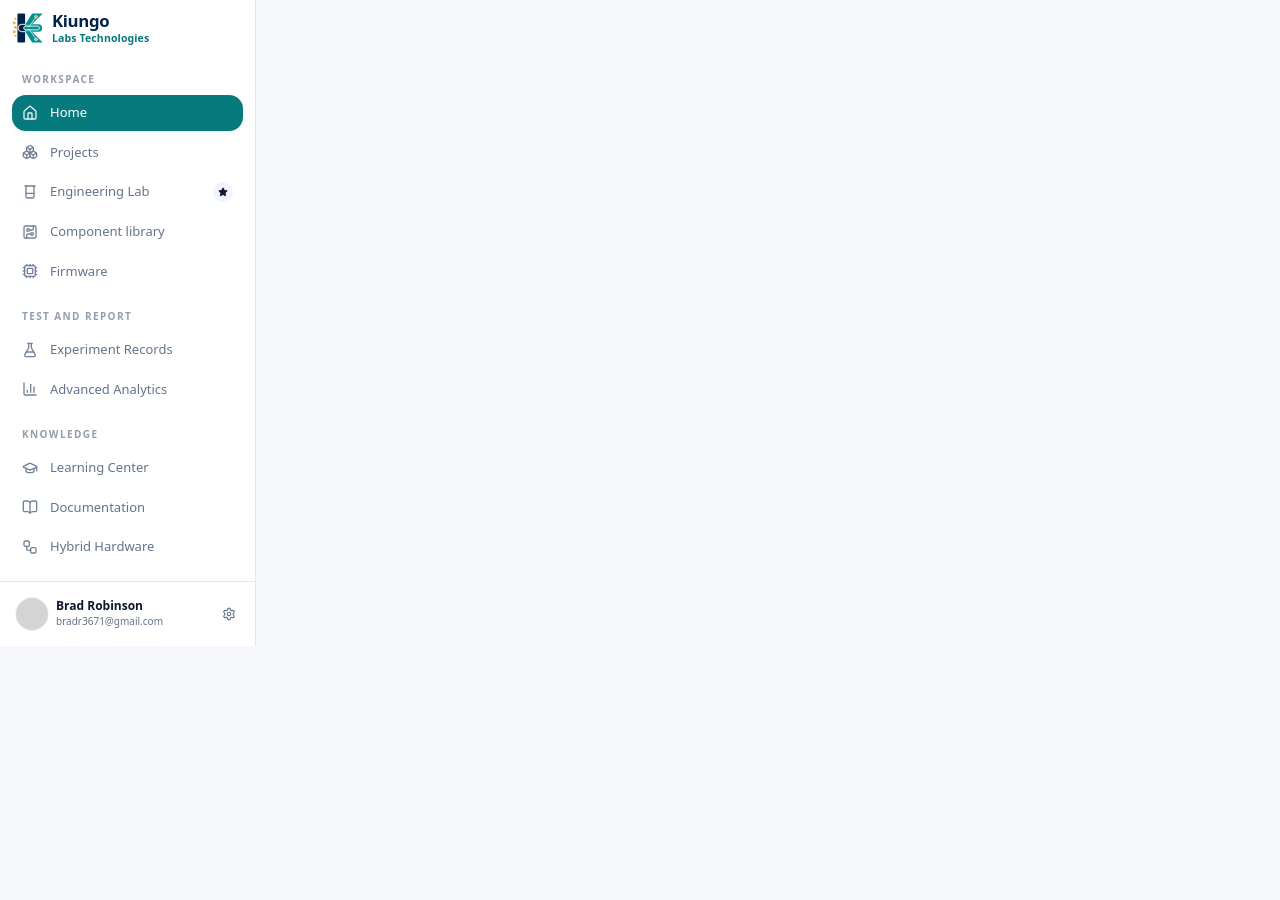
it: Signed in › opens the profile from the sidebar row
The image size is (1280, 900).
Step 1. Click the button with test id "sidebar-account" → (112,614), box top-left (12, 594), bottom-right (211, 634)
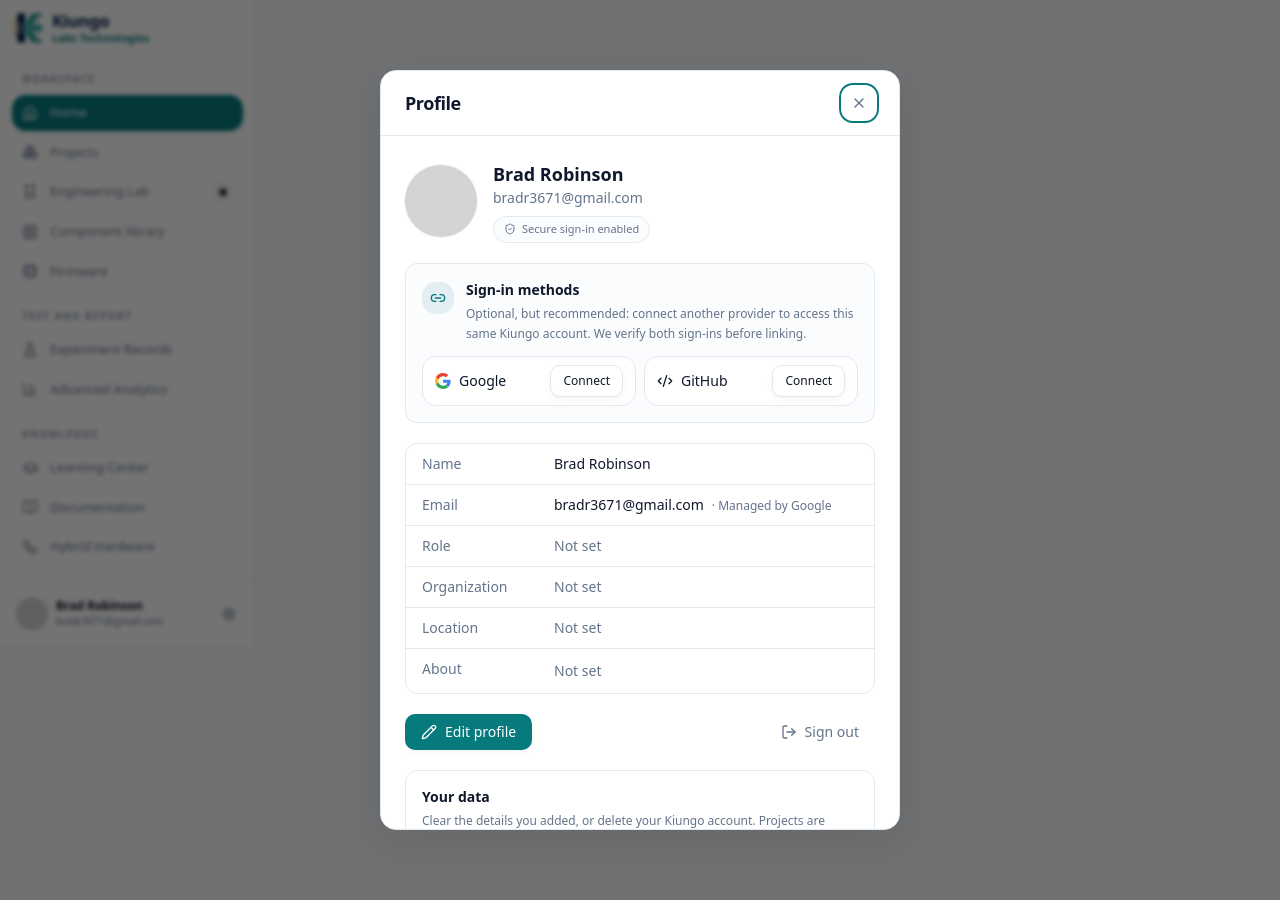
Result: the text with test id "profile-name" reads "Brad Robinson" at top-left (493, 162), bottom-right (624, 186)
Result: the text "Secure sign-in enabled" is shown at top-left (493, 216), bottom-right (650, 242)
